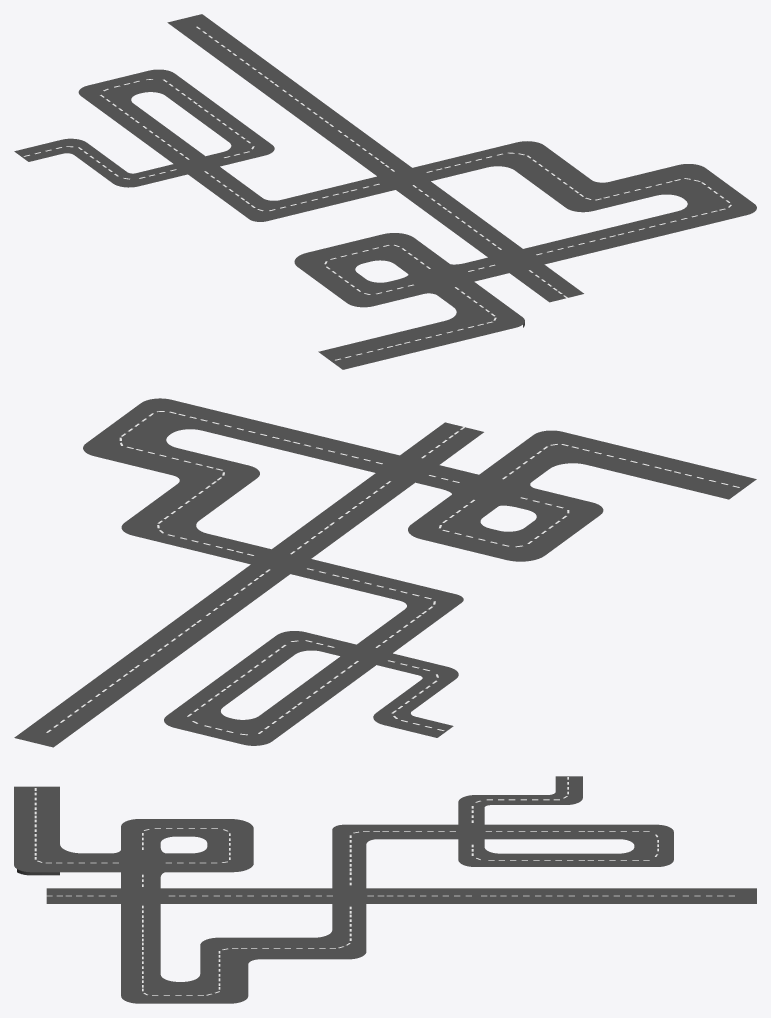
File: road1 (1).fbx
The picture shows the model from 3 angles, top to bottom: view 1: azimuth 30°, elevation 25°; view 2: azimuth 150°, elevation 25°; view 3: azimuth 270°, elevation 25°; orthographic projection. The views are drawn at different scales.
Visible parts, largest first — view 1: Plane.001; view 2: Plane.001; view 3: Plane.001.
Boxes of the visible parts, x1=… form: Plane.001: x1=14, y1=14, x2=756, y2=369; Plane.001: x1=14, y1=398, x2=756, y2=747; Plane.001: x1=14, y1=776, x2=756, y2=1003.
Size of the model in its own units: 79725 by 554 by 110084.
Materials: 1 (1 with a texture image).
